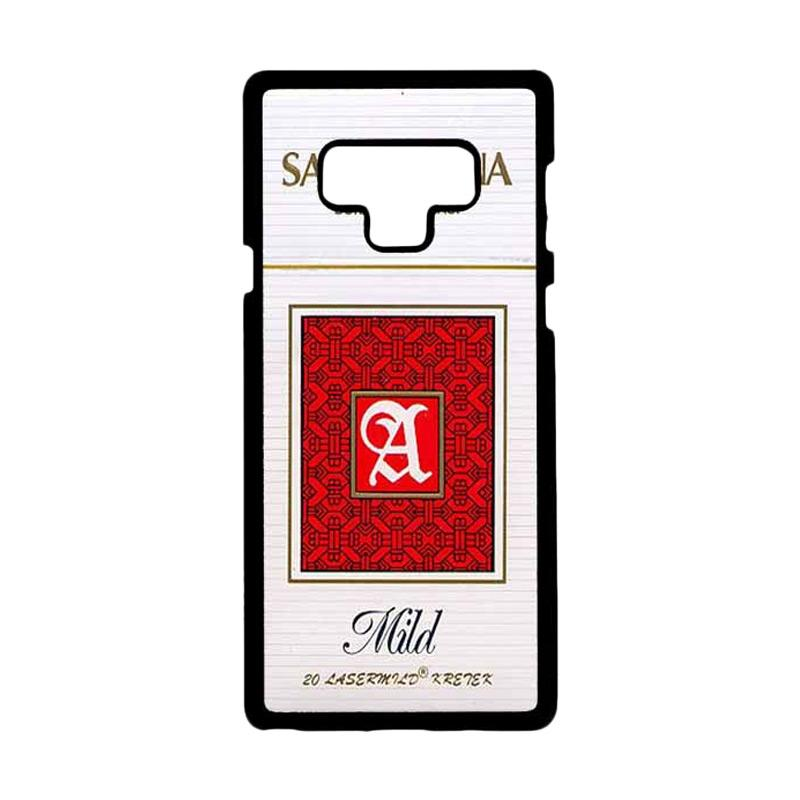A Mild: (263, 267, 533, 704)
